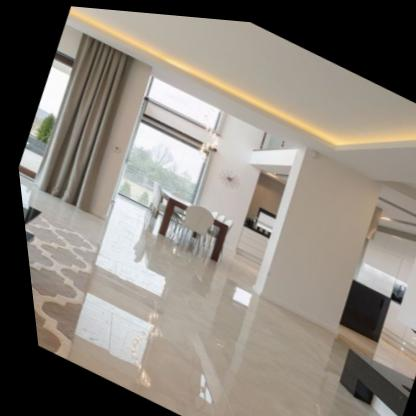Carpet: (20, 212, 92, 359)
Ceramic floor: (56, 194, 410, 416), (16, 181, 100, 246)
